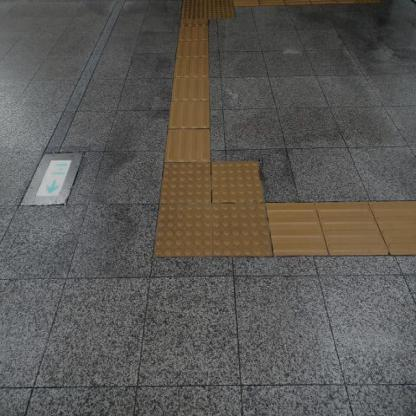podotacti: (134, 137, 312, 290), (268, 202, 415, 254), (166, 23, 211, 161)
